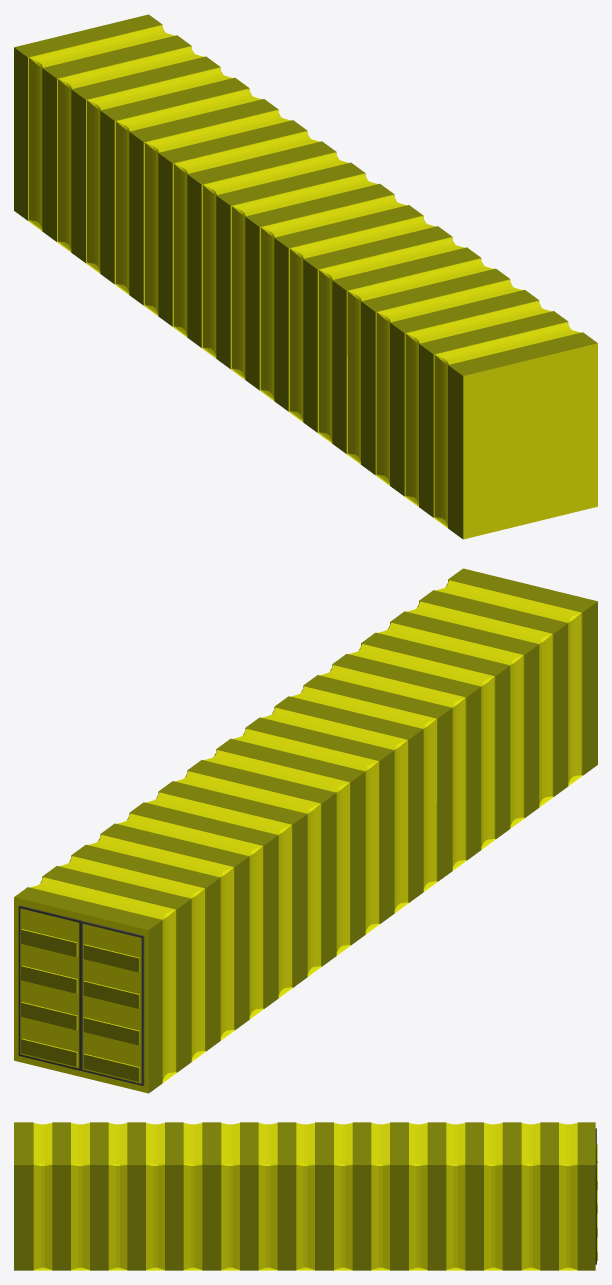
File: V12 Container.fbx
3 renders of one model, top to bottom at view 1: azimuth 30°, elevation 25°; view 2: azimuth 150°, elevation 25°; view 3: azimuth 270°, elevation 25°, orthographic. The views are drawn at different scales.
Parts seen in each view (by area): view 1: Cube; view 2: Cube, RightDoor, LeftDoor; view 3: Cube, RightDoor.
Boxes of the visible parts, x1,y1,x2,y2 form: Cube: [14, 14, 597, 539]; Cube: [14, 568, 597, 1093]; RightDoor: [18, 905, 81, 1070]; LeftDoor: [81, 920, 144, 1085]; Cube: [14, 1122, 595, 1270]; RightDoor: [595, 1148, 597, 1264].
Size of the model in its own units: 508 by 588 by 2941.
